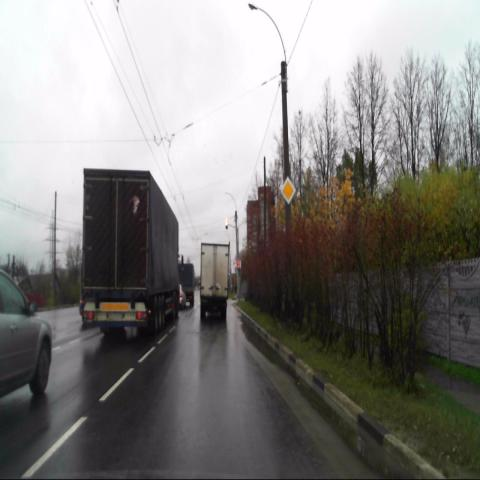2_1: (280, 176, 296, 204)
